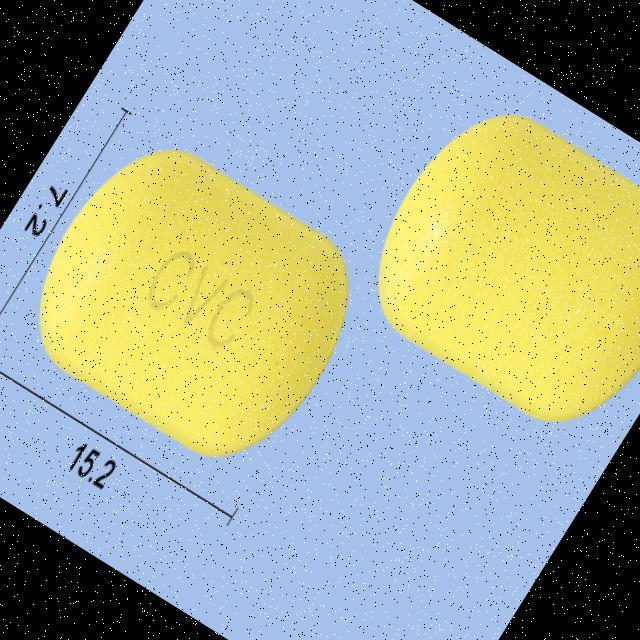CLARITYNE: (3, 117, 384, 486), (342, 83, 640, 451)
